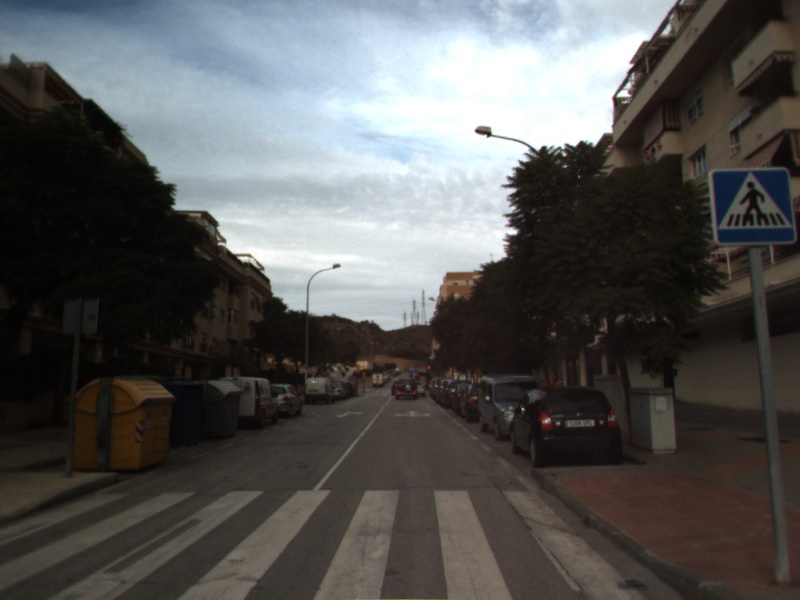STRAIGHT_LEFT_RIGHT: (392, 407, 434, 420)
